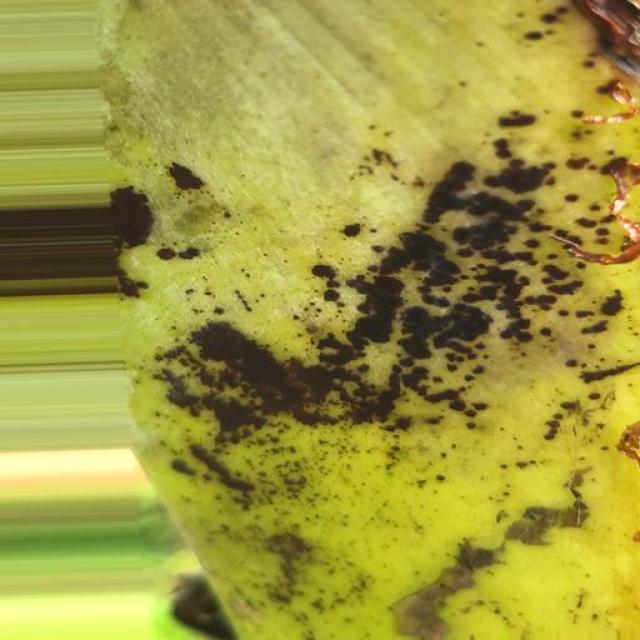Anthracnose: (70, 1, 640, 640)
